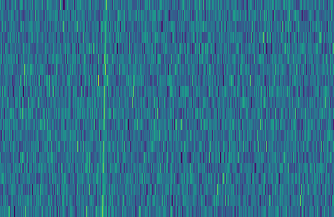signal: (97, 0, 109, 217)
